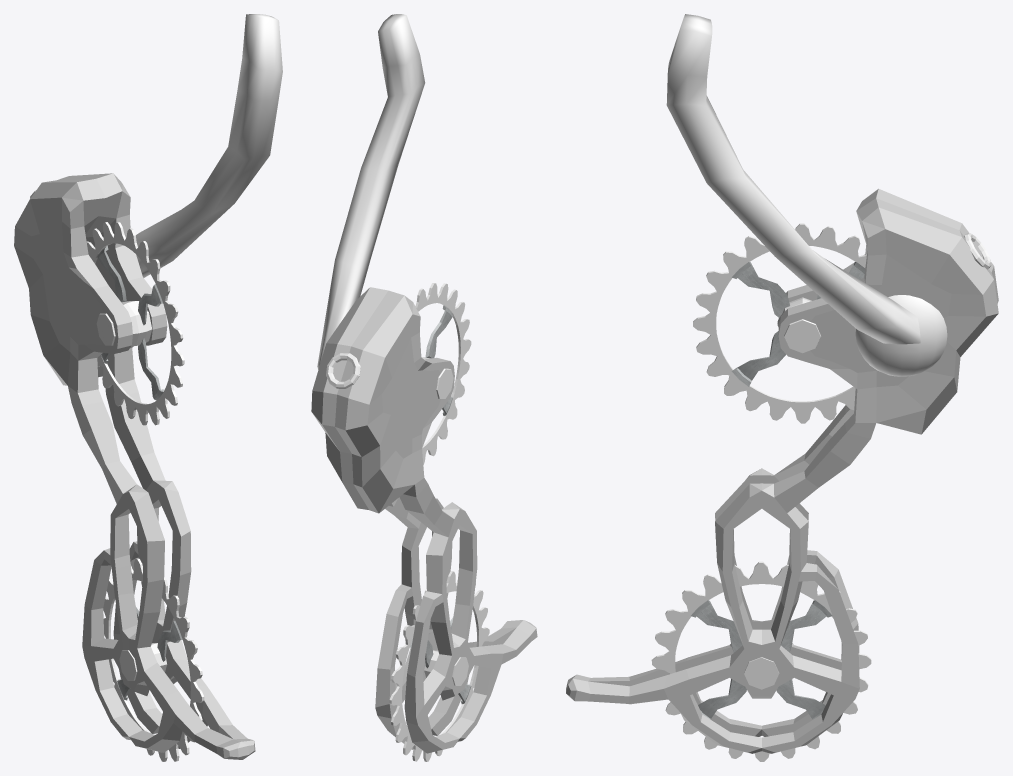
File: Cambio traseiro padrao.glb
3 views of the same model, side by side, from view 1: azimuth 30°, elevation 25°; view 2: azimuth 150°, elevation 25°; view 3: azimuth 270°, elevation 25° (orthographic). The views are drawn at different scales.
Visible parts, largest first — view 1: Cambio traseiro, Catraca superior do cambio traseiro, Catraca inferior do cambio traseiro; view 2: Cambio traseiro, Catraca inferior do cambio traseiro, Catraca superior do cambio traseiro, Buraco do cambio para o fio.003; view 3: Cambio traseiro, Catraca superior do cambio traseiro, Catraca inferior do cambio traseiro.
Boxes of the visible parts, x1=… form: Cambio traseiro: x1=14, y1=14, x2=282, y2=759; Catraca superior do cambio traseiro: x1=86, y1=222, x2=184, y2=425; Catraca inferior do cambio traseiro: x1=103, y1=558, x2=204, y2=761; Cambio traseiro: x1=311, y1=14, x2=537, y2=753; Catraca inferior do cambio traseiro: x1=389, y1=571, x2=489, y2=761; Catraca superior do cambio traseiro: x1=415, y1=283, x2=471, y2=464; Buraco do cambio para o fio.003: x1=326, y1=353, x2=360, y2=388; Cambio traseiro: x1=566, y1=14, x2=998, y2=753; Catraca superior do cambio traseiro: x1=693, y1=223, x2=866, y2=423; Catraca inferior do cambio traseiro: x1=651, y1=561, x2=871, y2=761.
Bounding box in the file's own units: 0.0335 × 0.192 × 0.096.
Materials: 5 (1 with a texture image).
